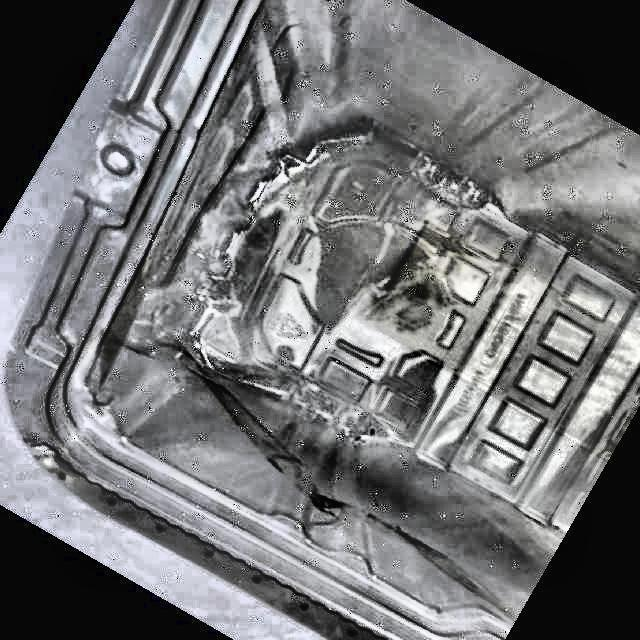plastic: (10, 0, 640, 640)
